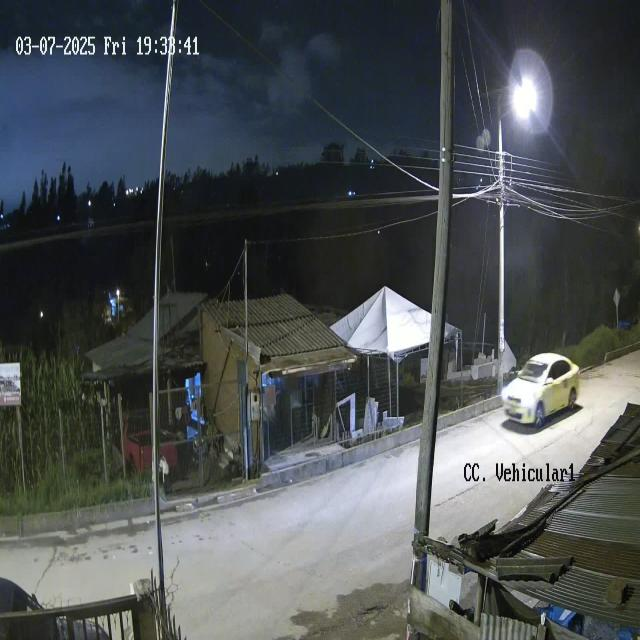SED: (501, 351, 581, 429)
